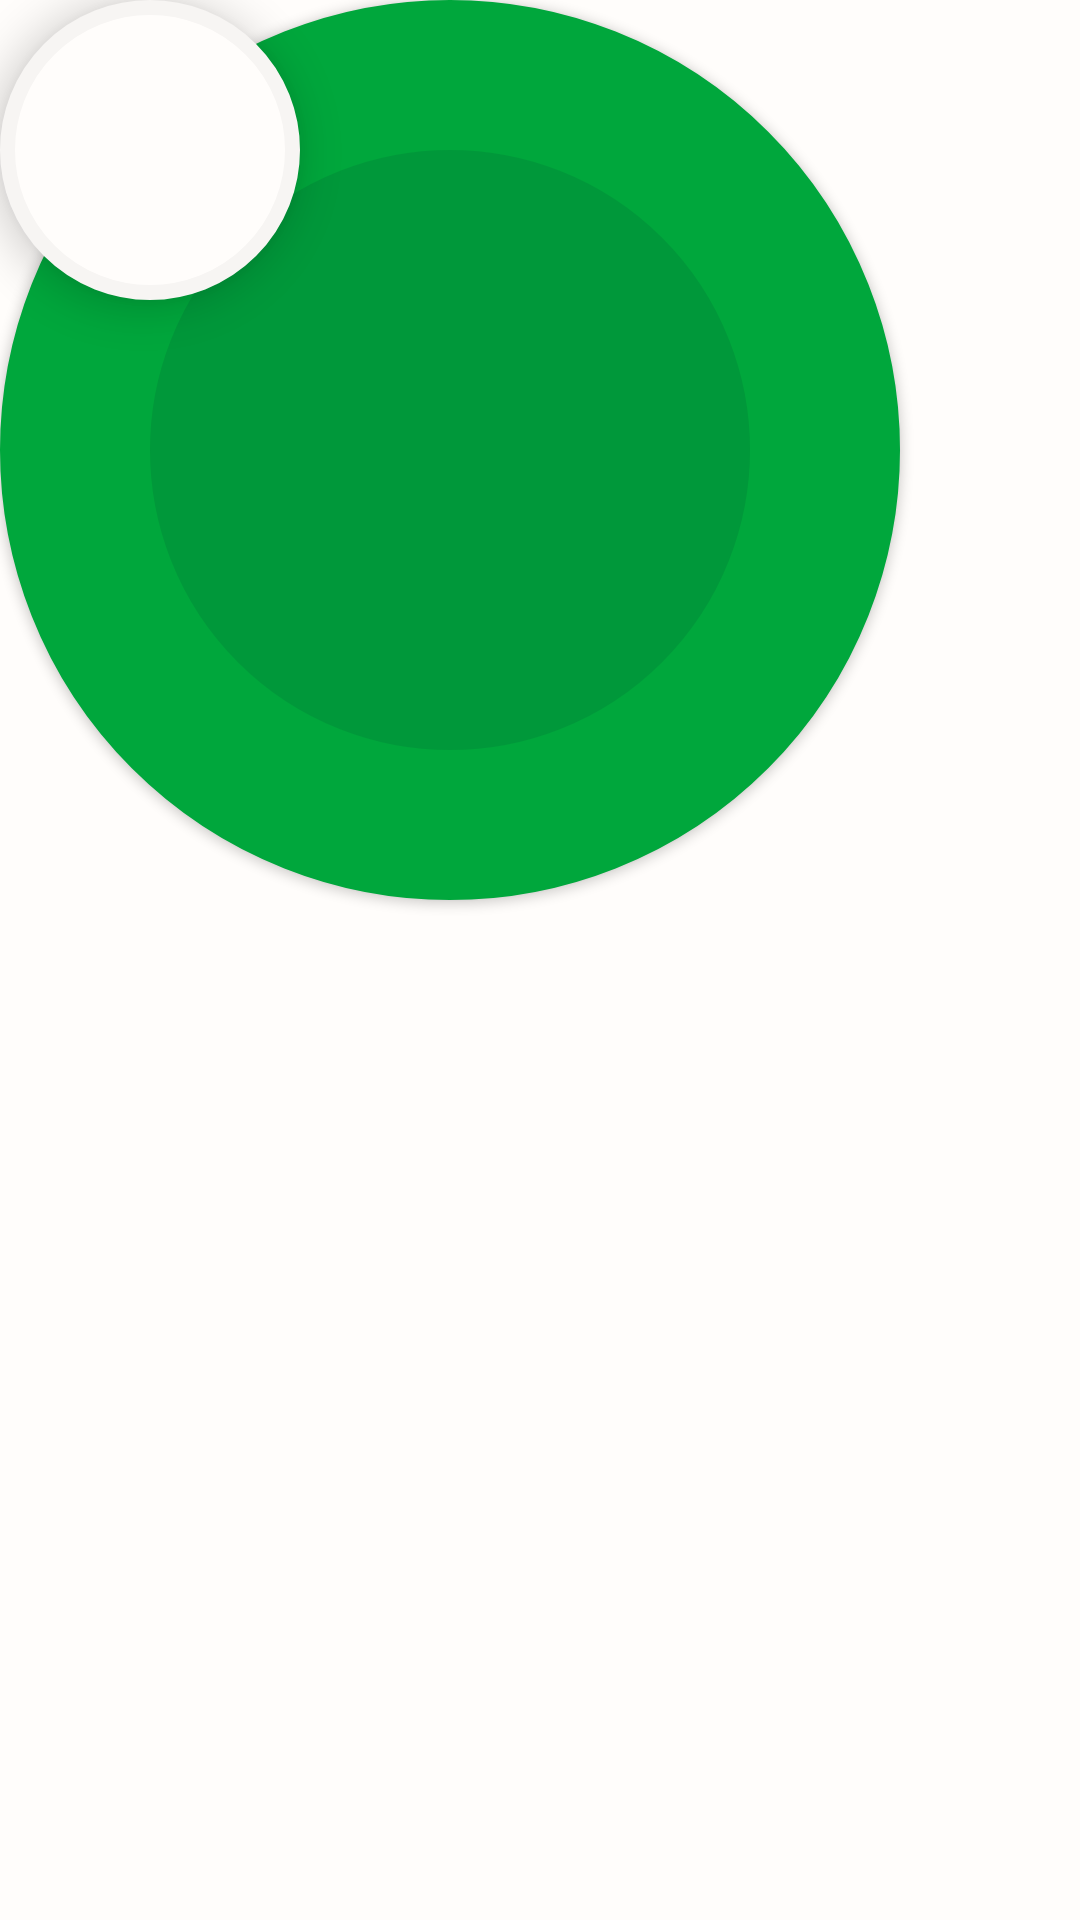

Named icons in this screenshot (1080px x 1920px) and their bounding boxes, (x1, y1, x2, y2):
joystick stick: (0, 0, 300, 300)
